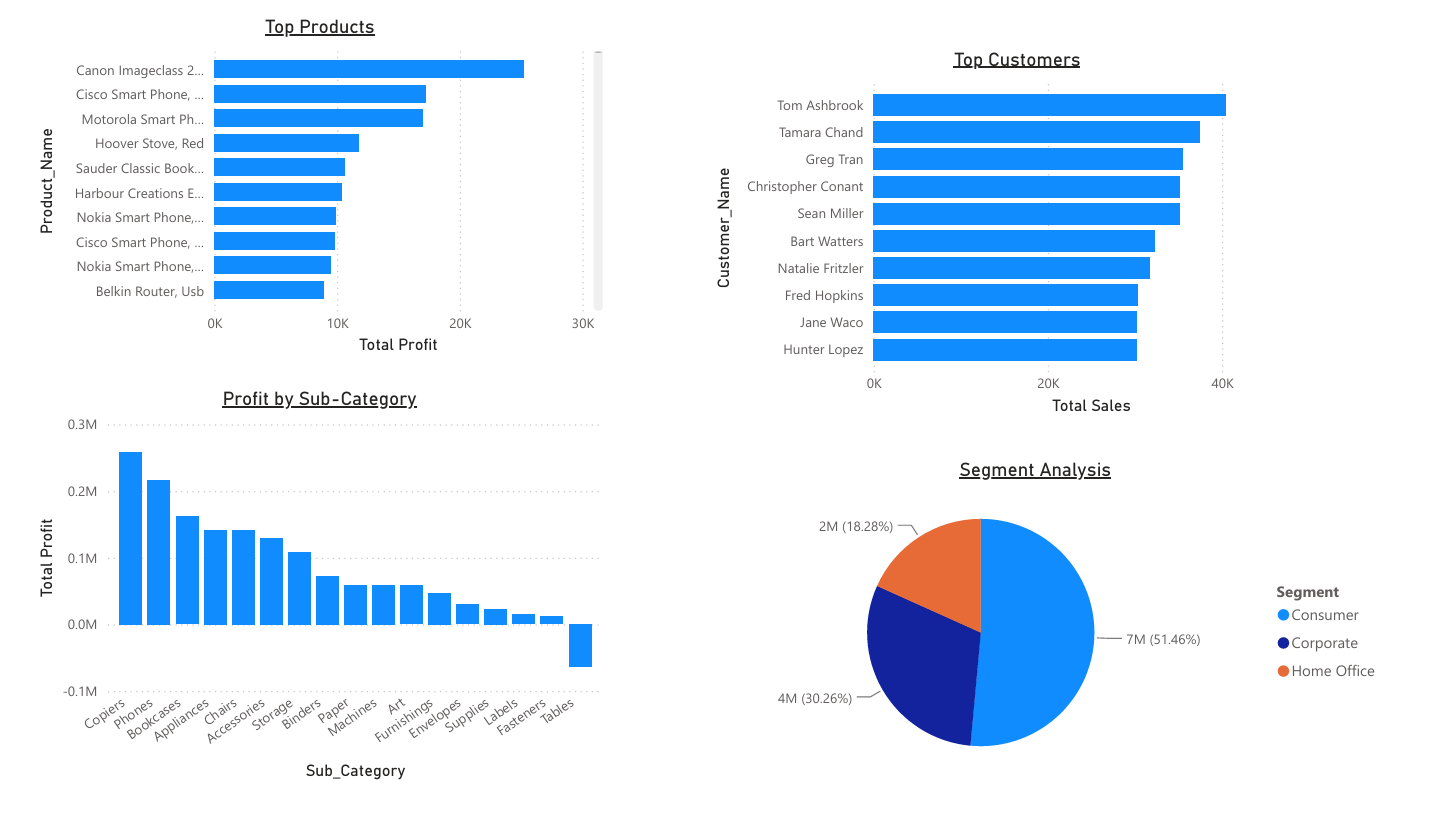

This screenshot's page, from the dashboard's own definition file:
{"tool":"powerbi","page":{"name":"Product & Customer Insights","canvas":[1280,720],"ordinal":2},"visuals":[{"type":"clusteredBarChart","title":"Top Products","fields":{"Category":["Cleaned Dataset 1.Product_Name"],"Y":["Cleaned Dataset 1.Total Profit"]},"box":[9.6,0,513.2,306],"z":0},{"type":"clusteredBarChart","title":"Top Customers","fields":{"Category":["Cleaned Dataset 1.Customer_Name"],"Y":["Cleaned Dataset 1.Total Sales"]},"box":[612,28.8,548.9,330.7],"z":1},{"type":"clusteredColumnChart","title":"Profit by Sub-Category","fields":{"Category":["Cleaned Dataset 1.Sub_Category"],"Y":["Cleaned Dataset 1.Total Profit"]},"box":[9.6,330.7,513.2,354],"z":2},{"type":"pieChart","title":"Segment Analysis","fields":{"Category":["Cleaned Dataset 1.Segment"],"Y":["Cleaned Dataset 1.Total Sales"]},"box":[585.9,393.8,632.6,290.9],"z":3}]}

Visuals, with their boxes in screenshot pixels (x1, y1, x2, y2), scaled from the page's 1280x720 canvas onto the 1440x830 screenshot:
"Top Products" clusteredBarChart: <region>11, 0, 588, 353</region>
"Top Customers" clusteredBarChart: <region>688, 33, 1306, 414</region>
"Profit by Sub-Category" clusteredColumnChart: <region>11, 381, 588, 789</region>
"Segment Analysis" pieChart: <region>659, 454, 1371, 789</region>
